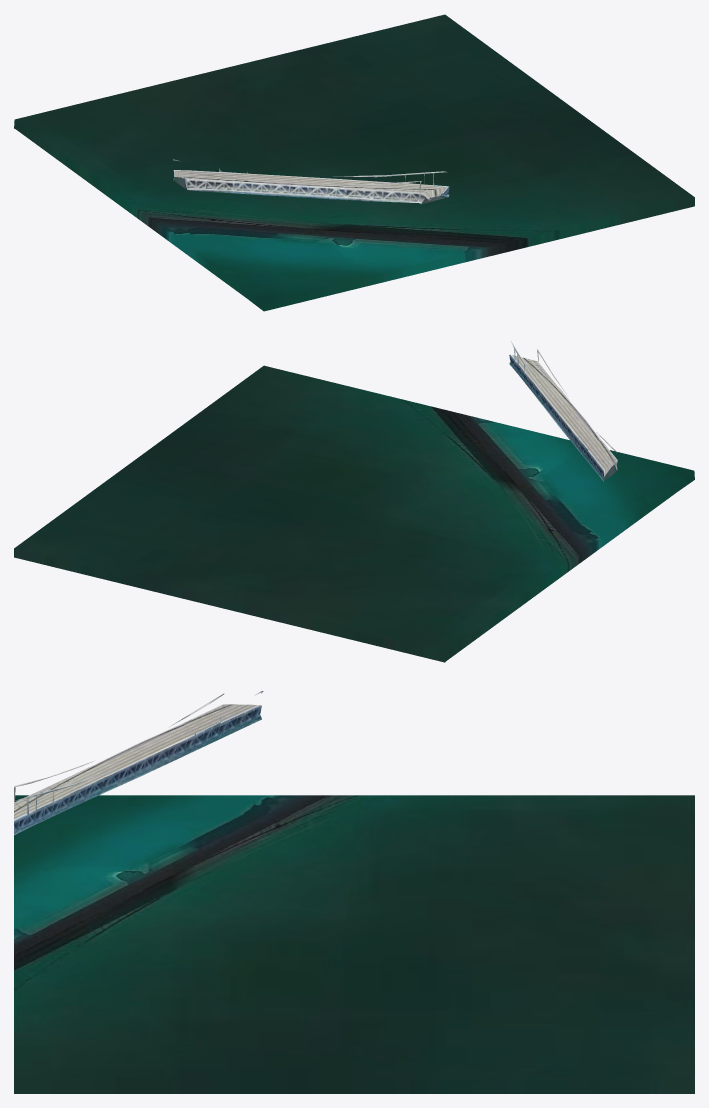
File: z16-10488-25326-h0-yup-uvflip-v3-world.glb
3 renders of one model, top to bottom at view 1: azimuth 30°, elevation 25°; view 2: azimuth 150°, elevation 25°; view 3: azimuth 270°, elevation 25°, orthographic. The views are drawn at different scales.
Size of the model in its own units: 483 by 101 by 485.
Materials: 1 (1 with a texture image).
